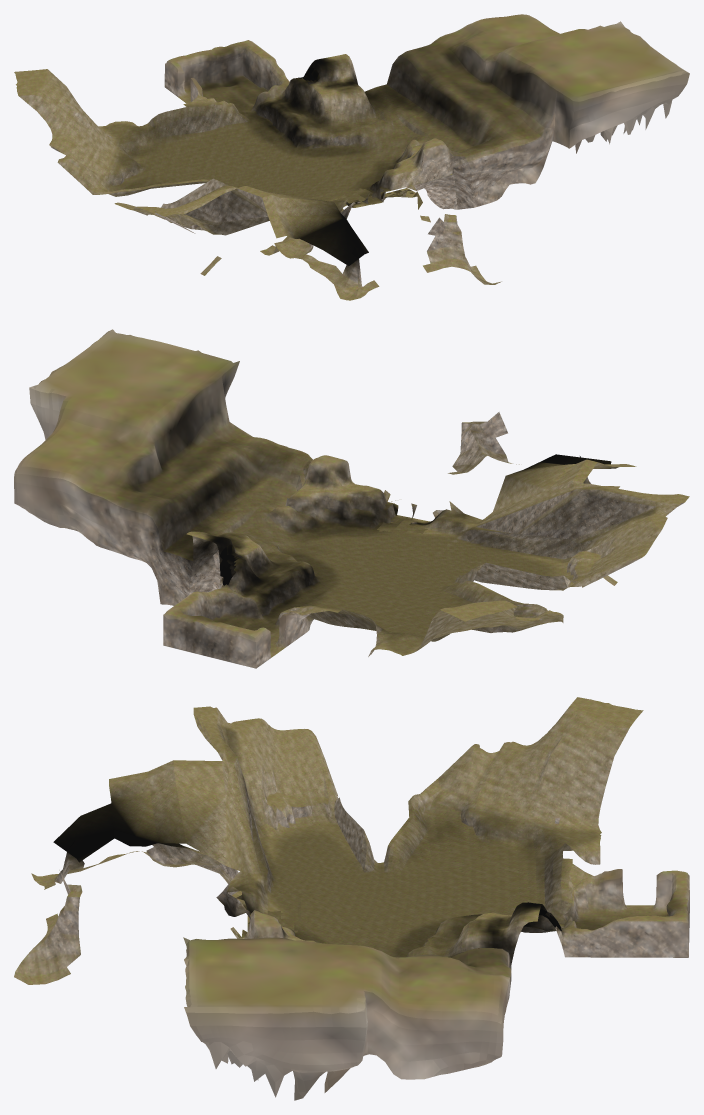
File: landocopy2.glb
The picture shows the model from 3 angles, top to bottom: view 1: azimuth 30°, elevation 25°; view 2: azimuth 150°, elevation 25°; view 3: azimuth 270°, elevation 25°; orthographic projection. The views are drawn at different scales.
Parts seen in each view (by area): view 1: Plane.005; view 2: Plane.005; view 3: Plane.005.
Boxes of the visible parts, x1,y1,x2,y2 form: Plane.005: (14, 14, 689, 300); Plane.005: (14, 329, 689, 668); Plane.005: (14, 697, 689, 1100).
Bounding box in the file's own units: 824 × 187 × 712.
Materials: 1 (1 with a texture image).
